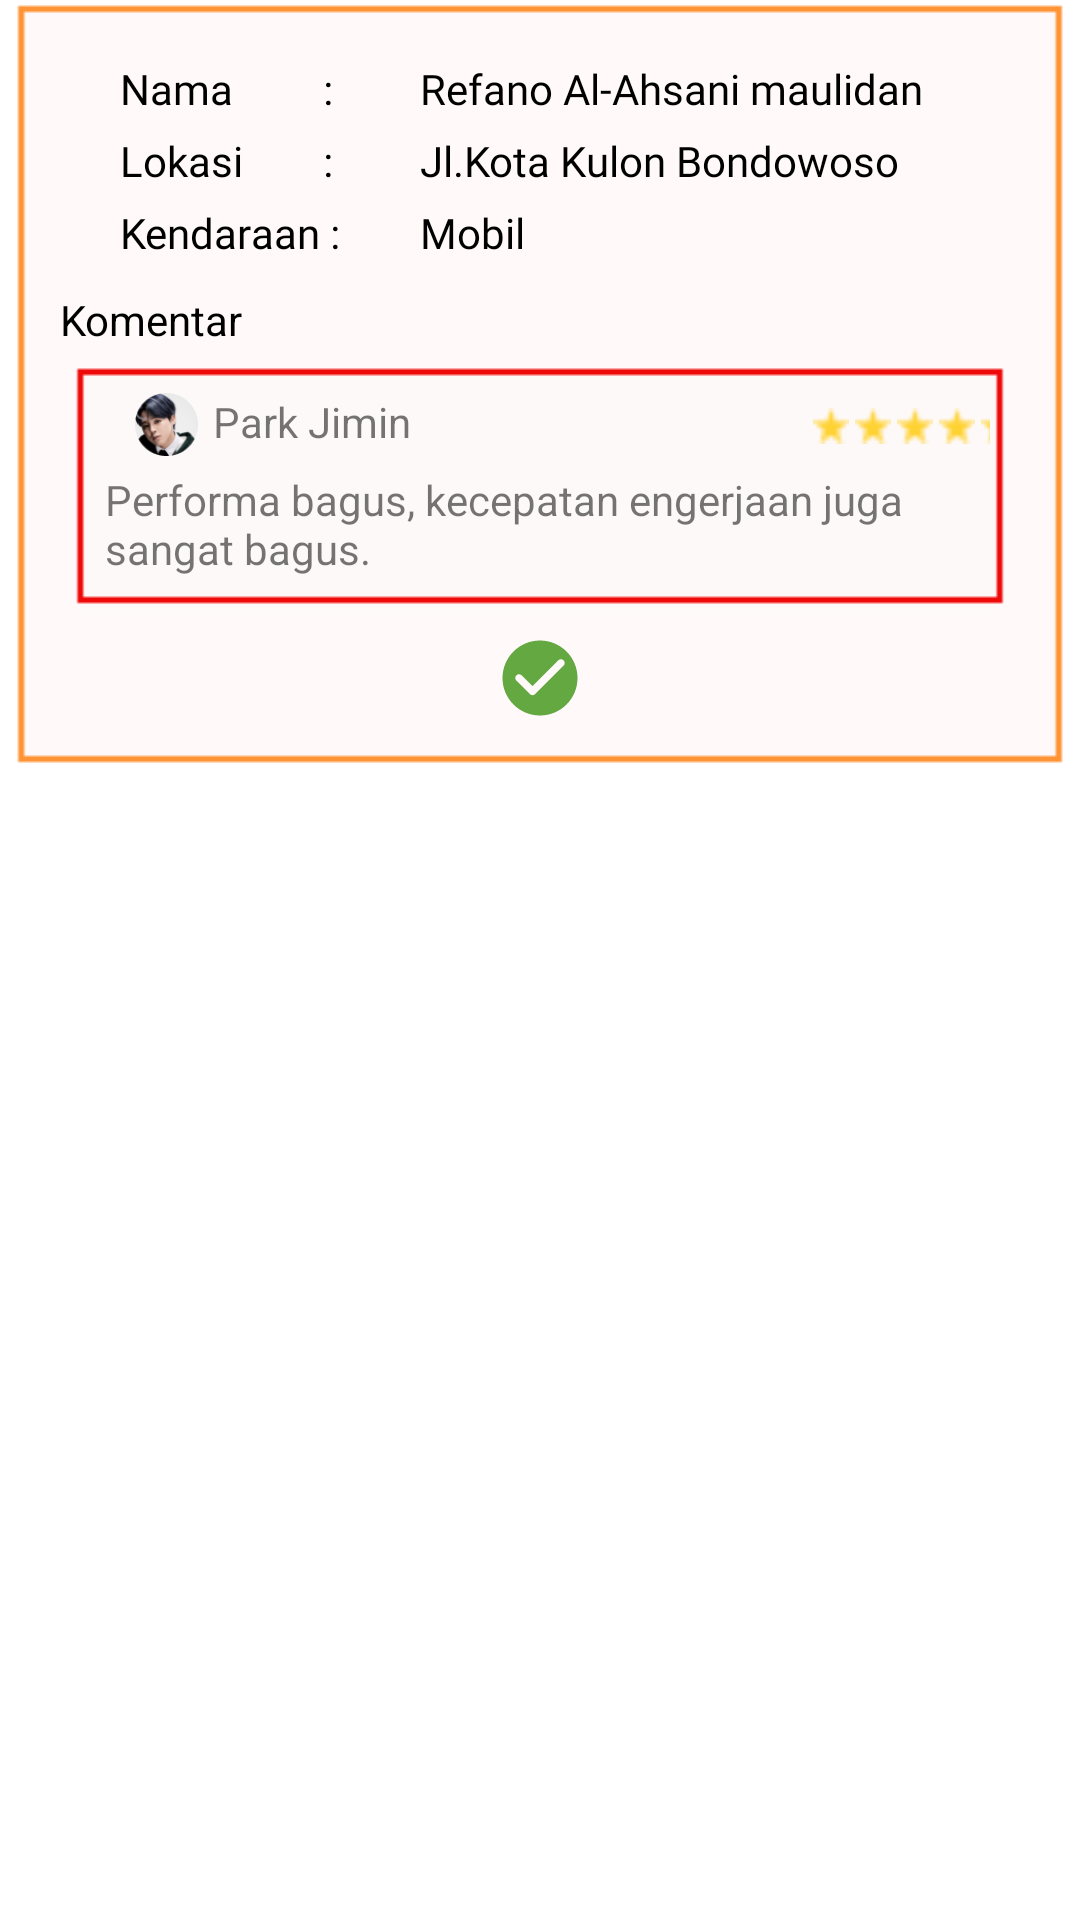

Screen size 1080w x 1920h. Icon name, then its center in pixels as (x=x, y=y):
ceklist: (x=540, y=678)
profile: (x=165, y=424)
